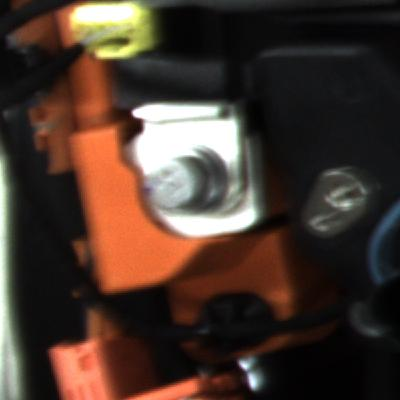nut_b: (143, 142, 240, 223)
